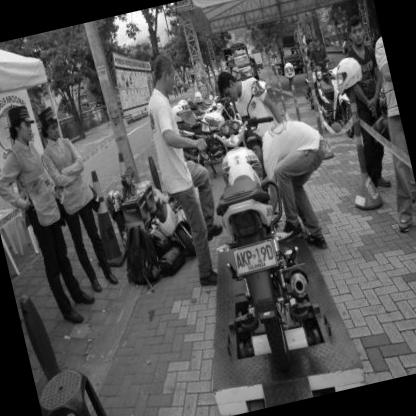moto: (186, 112, 345, 382)
